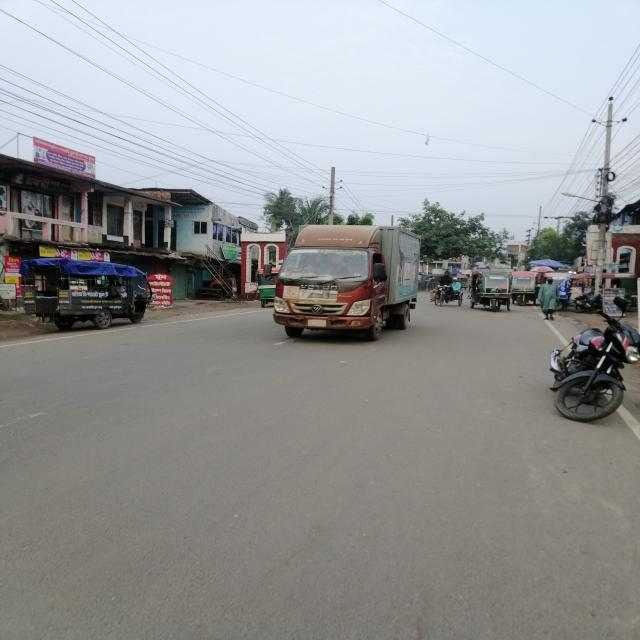Motorbike: (537, 299, 640, 433)
Pick-up-van: (271, 220, 426, 345)
